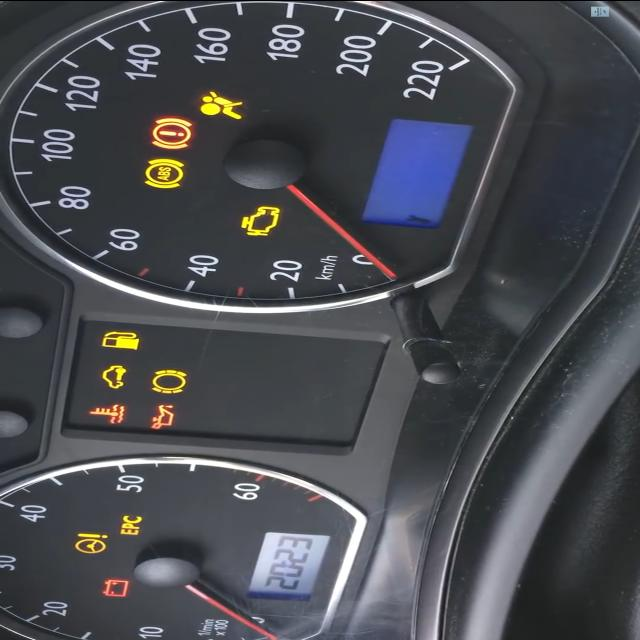Anti Lock Braking System: (143, 156, 185, 188)
Braking System Issue: (150, 116, 194, 149)
Charging System Issue: (239, 204, 282, 236), (101, 578, 130, 596)
Engine Overheating Warning Light: (88, 402, 126, 423)
Low Engine Oil Warning Light: (150, 403, 176, 429)
SRS-Airbag: (200, 89, 243, 119)
